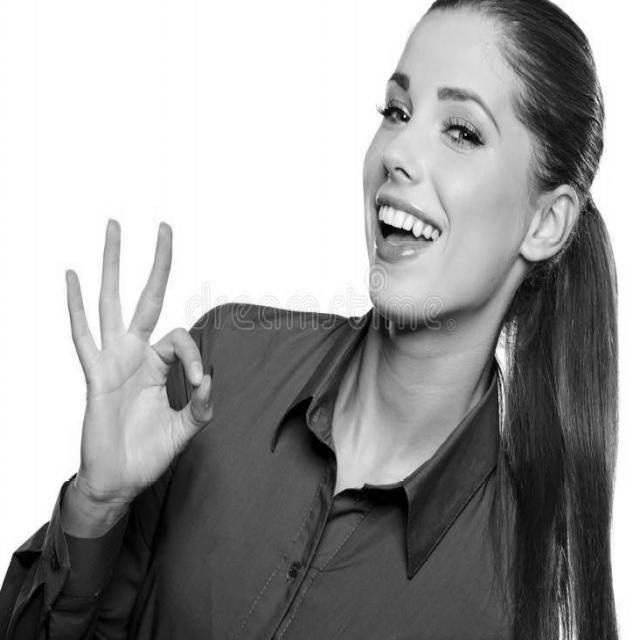perfect: (59, 204, 220, 511)
